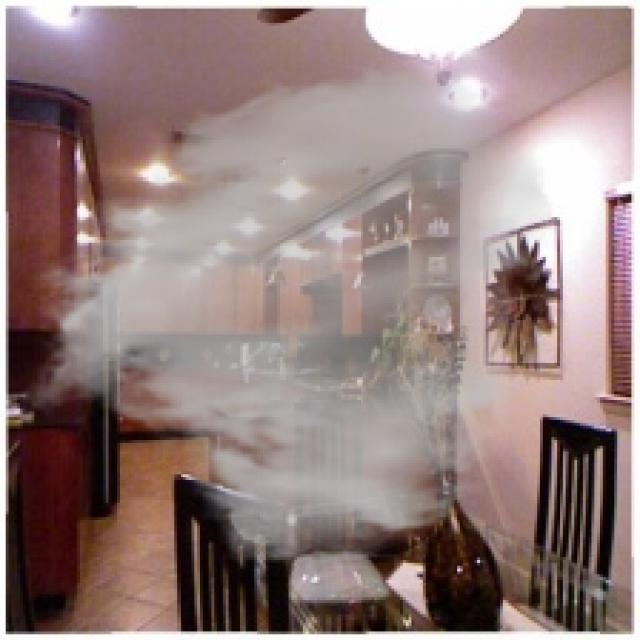smoke: (20, 57, 557, 572)
